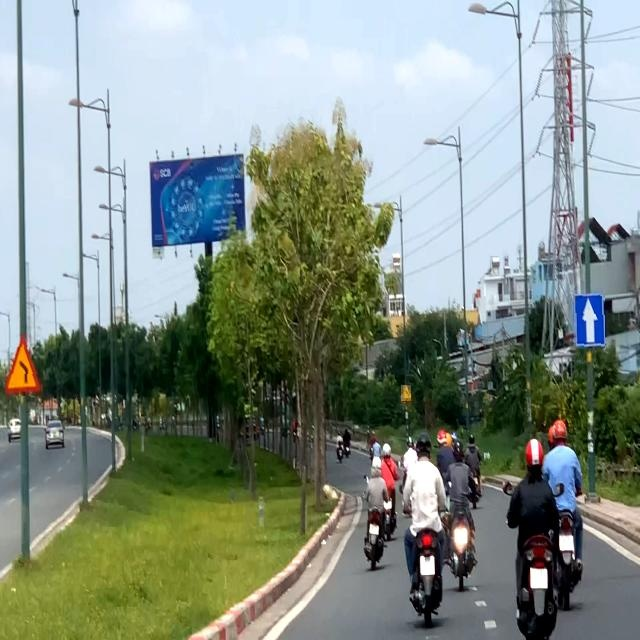bien_chi_dan: (5, 333, 43, 396), (574, 290, 605, 348), (401, 386, 411, 402)
